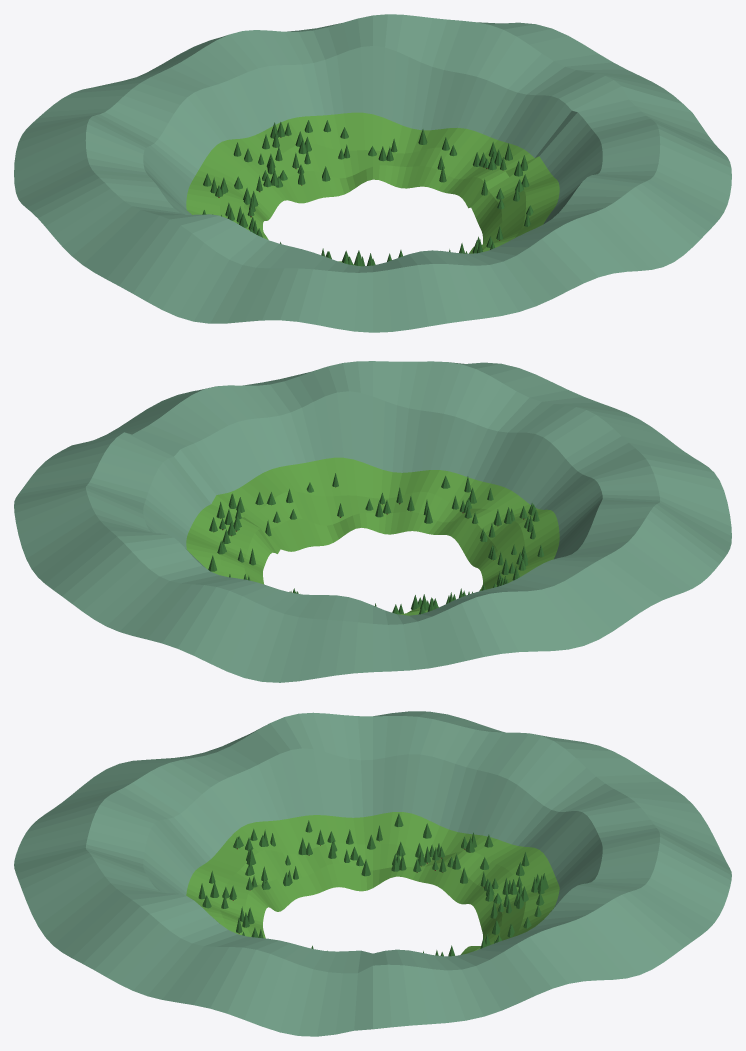
File: Meadow_Backdrop.fbx
3 renders of one model, top to bottom at view 1: azimuth 30°, elevation 25°; view 2: azimuth 150°, elevation 25°; view 3: azimuth 270°, elevation 25°, orthographic.
Visible parts, largest first — view 1: Meadow_Backdrop; view 2: Meadow_Backdrop; view 3: Meadow_Backdrop.
Boxes of the visible parts, x1=… form: Meadow_Backdrop: x1=14, y1=14, x2=731, y2=332; Meadow_Backdrop: x1=14, y1=361, x2=731, y2=682; Meadow_Backdrop: x1=14, y1=711, x2=731, y2=1036.
Bounding box in the file's own units: 300 × 49.9 × 300.
